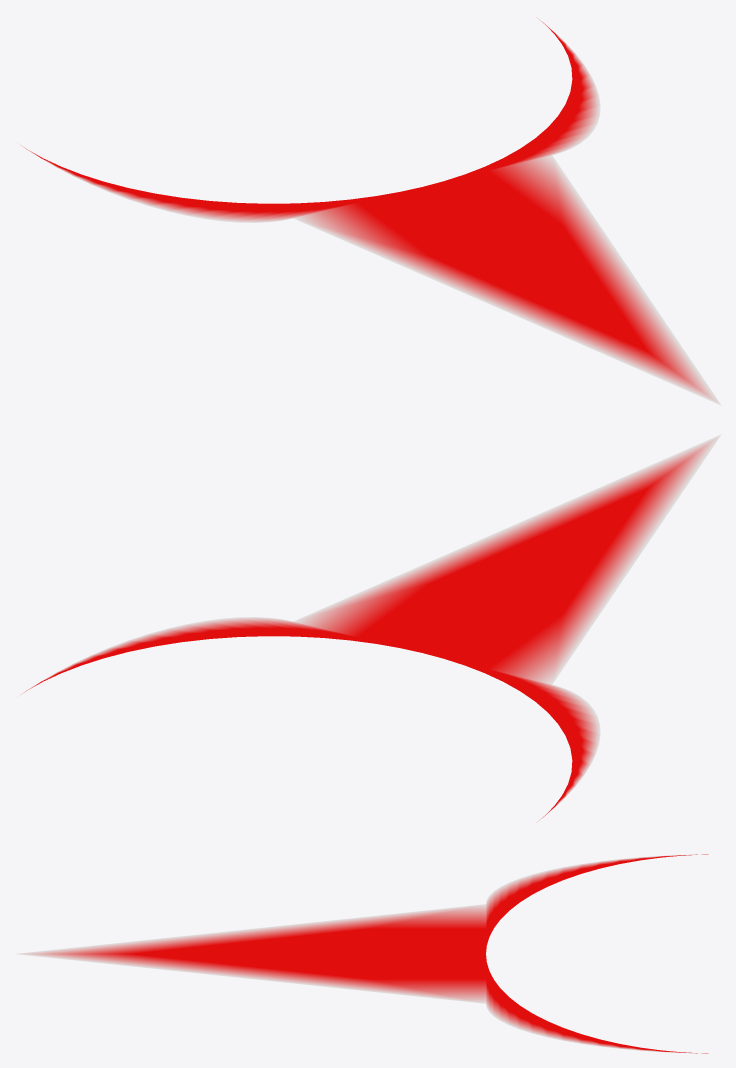
The model's file is aiming guide.fbx.
3 renders of one model, top to bottom at view 1: azimuth 30°, elevation 25°; view 2: azimuth 150°, elevation 25°; view 3: azimuth 270°, elevation 25°, orthographic. The views are drawn at different scales.
Visible parts, largest first — view 1: SurfPatch.001, SurfPatch.003, SurfPatch, SurfPatch.002; view 2: SurfPatch.003, SurfPatch.001, SurfPatch.002, SurfPatch; view 3: SurfPatch.001, SurfPatch.003, SurfPatch, SurfPatch.002.
Part boxes in pixels (bbox=[...]): SurfPatch.001: bbox=[293, 187, 720, 405]; SurfPatch.003: bbox=[423, 155, 721, 405]; SurfPatch: bbox=[19, 144, 415, 222]; SurfPatch.002: bbox=[429, 17, 600, 185]; SurfPatch.003: bbox=[293, 434, 720, 652]; SurfPatch.001: bbox=[423, 434, 721, 684]; SurfPatch.002: bbox=[19, 617, 415, 695]; SurfPatch: bbox=[429, 654, 600, 822]; SurfPatch.001: bbox=[16, 904, 485, 953]; SurfPatch.003: bbox=[16, 954, 485, 1003]; SurfPatch: bbox=[486, 854, 708, 951]; SurfPatch.002: bbox=[486, 956, 708, 1053].
Size of the model in its own units: 200 by 300 by 2.62e-05.
